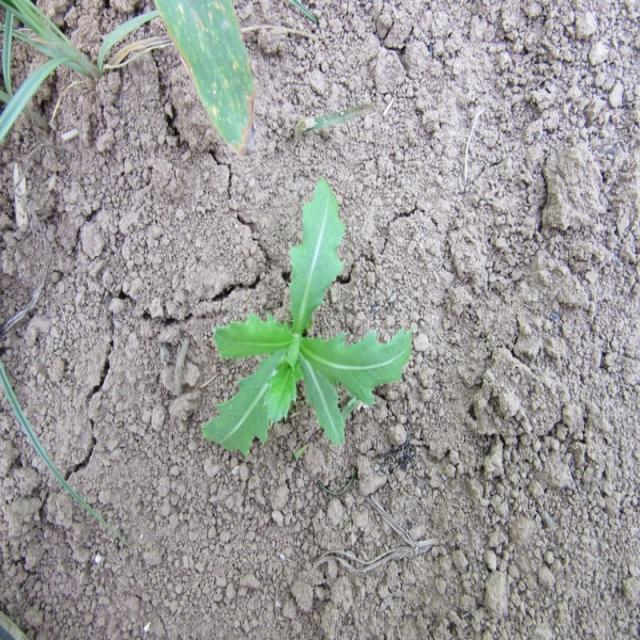field_thistle: (178, 176, 404, 470)
